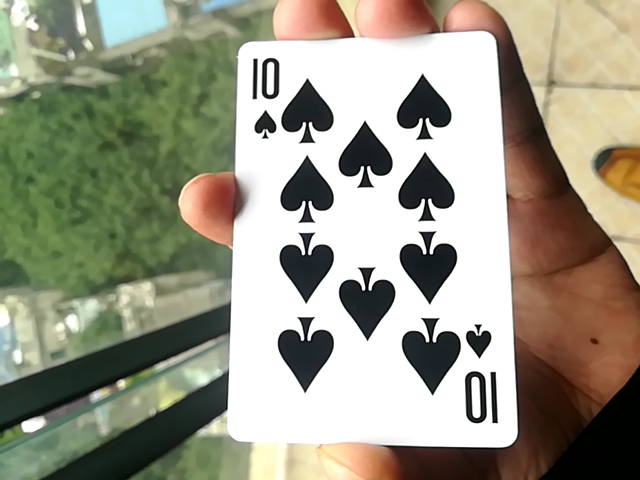ht 10: (220, 26, 512, 448)
